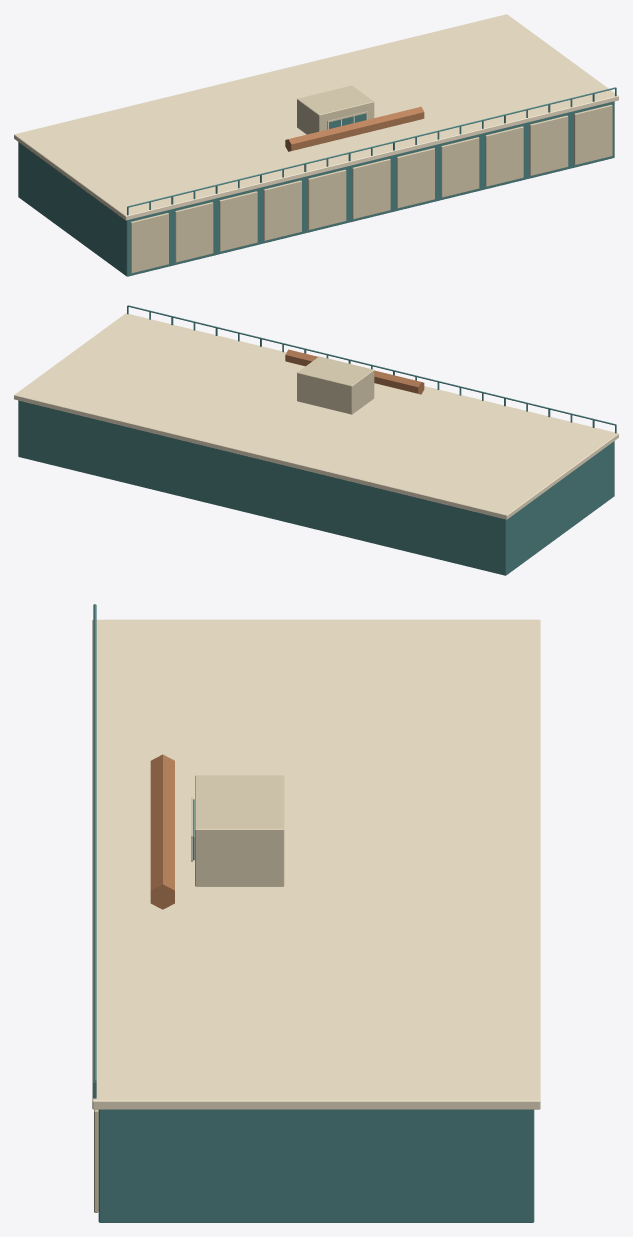
File: hsc3_cooling_deck.glb
3 renders of one model, top to bottom at view 1: azimuth 30°, elevation 25°; view 2: azimuth 150°, elevation 25°; view 3: azimuth 270°, elevation 25°, orthographic. The views are drawn at different scales.
Visible parts, largest first — view 1: hsc3_cooling_deck__hsc3-pale-trim, hsc3_cooling_deck__hsc3-cream-enamel, hsc3_cooling_deck__hsc3-deep-teal, hsc3_cooling_deck__hsc3-roasted-copper; view 2: hsc3_cooling_deck__hsc3-pale-trim, hsc3_cooling_deck__hsc3-deep-teal, hsc3_cooling_deck__hsc3-cream-enamel, hsc3_cooling_deck__hsc3-roasted-copper; view 3: hsc3_cooling_deck__hsc3-pale-trim, hsc3_cooling_deck__hsc3-deep-teal, hsc3_cooling_deck__hsc3-cream-enamel, hsc3_cooling_deck__hsc3-roasted-copper.
Boxes of the visible parts, x1,y1,x2,y2 form: hsc3_cooling_deck__hsc3-pale-trim: (14, 14, 618, 220); hsc3_cooling_deck__hsc3-cream-enamel: (130, 85, 612, 273); hsc3_cooling_deck__hsc3-deep-teal: (18, 87, 616, 276); hsc3_cooling_deck__hsc3-roasted-copper: (285, 106, 424, 151); hsc3_cooling_deck__hsc3-pale-trim: (14, 313, 618, 519); hsc3_cooling_deck__hsc3-deep-teal: (18, 305, 616, 575); hsc3_cooling_deck__hsc3-cream-enamel: (297, 356, 374, 414); hsc3_cooling_deck__hsc3-roasted-copper: (285, 349, 424, 394); hsc3_cooling_deck__hsc3-pale-trim: (92, 619, 540, 1109); hsc3_cooling_deck__hsc3-deep-teal: (93, 604, 534, 1222); hsc3_cooling_deck__hsc3-cream-enamel: (94, 775, 284, 1212); hsc3_cooling_deck__hsc3-roasted-copper: (150, 754, 174, 909).
Size of the model in its own units: 89 by 15.8 by 35.
